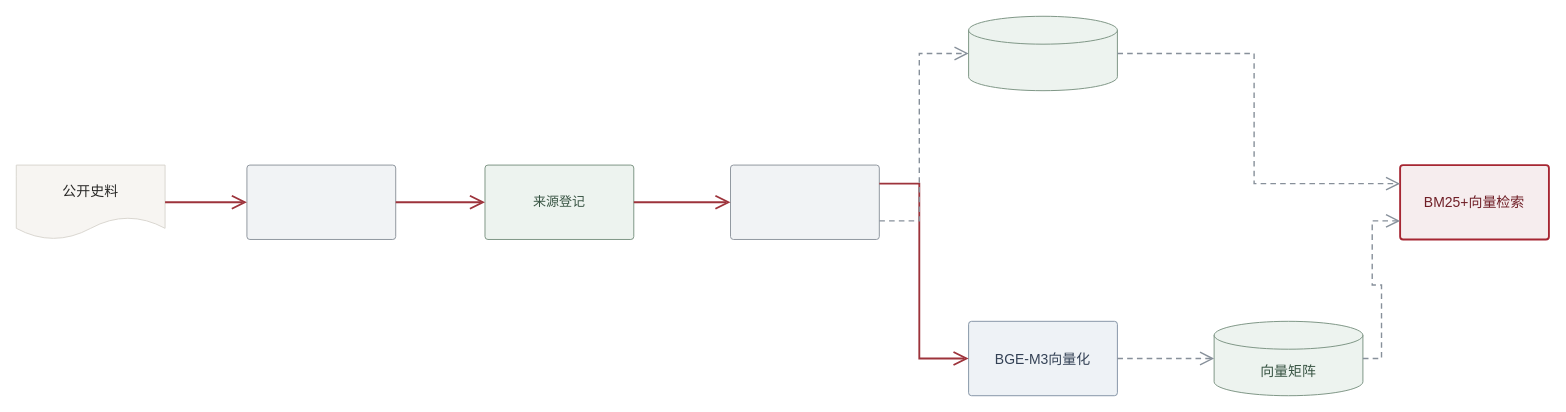
The diagram is 1566 pixels wide and 412 high, and some of its shapes have lost their labels. The centre of each missing label's shape, as x and y in pixels:
文本片段索引: the point at 1042,53
文本解析: the point at 321,201
标题感知切块: the point at 804,201
